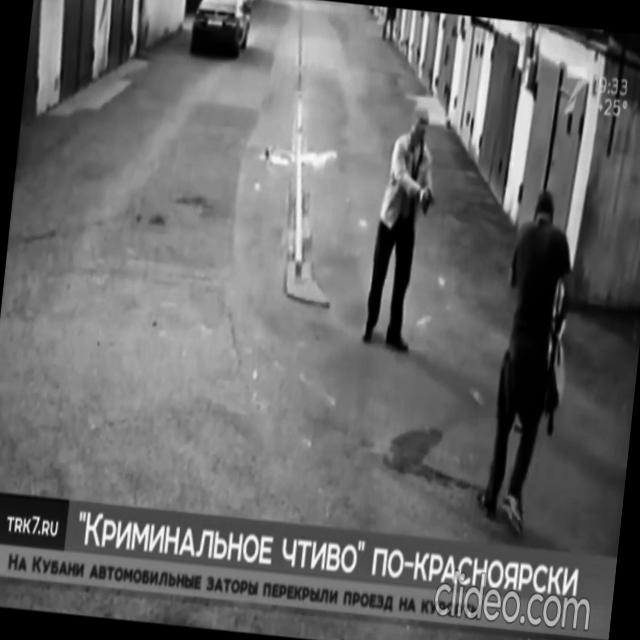gun: (423, 184, 438, 212)
person: (473, 183, 586, 540)
person with a gun: (362, 100, 446, 354)
